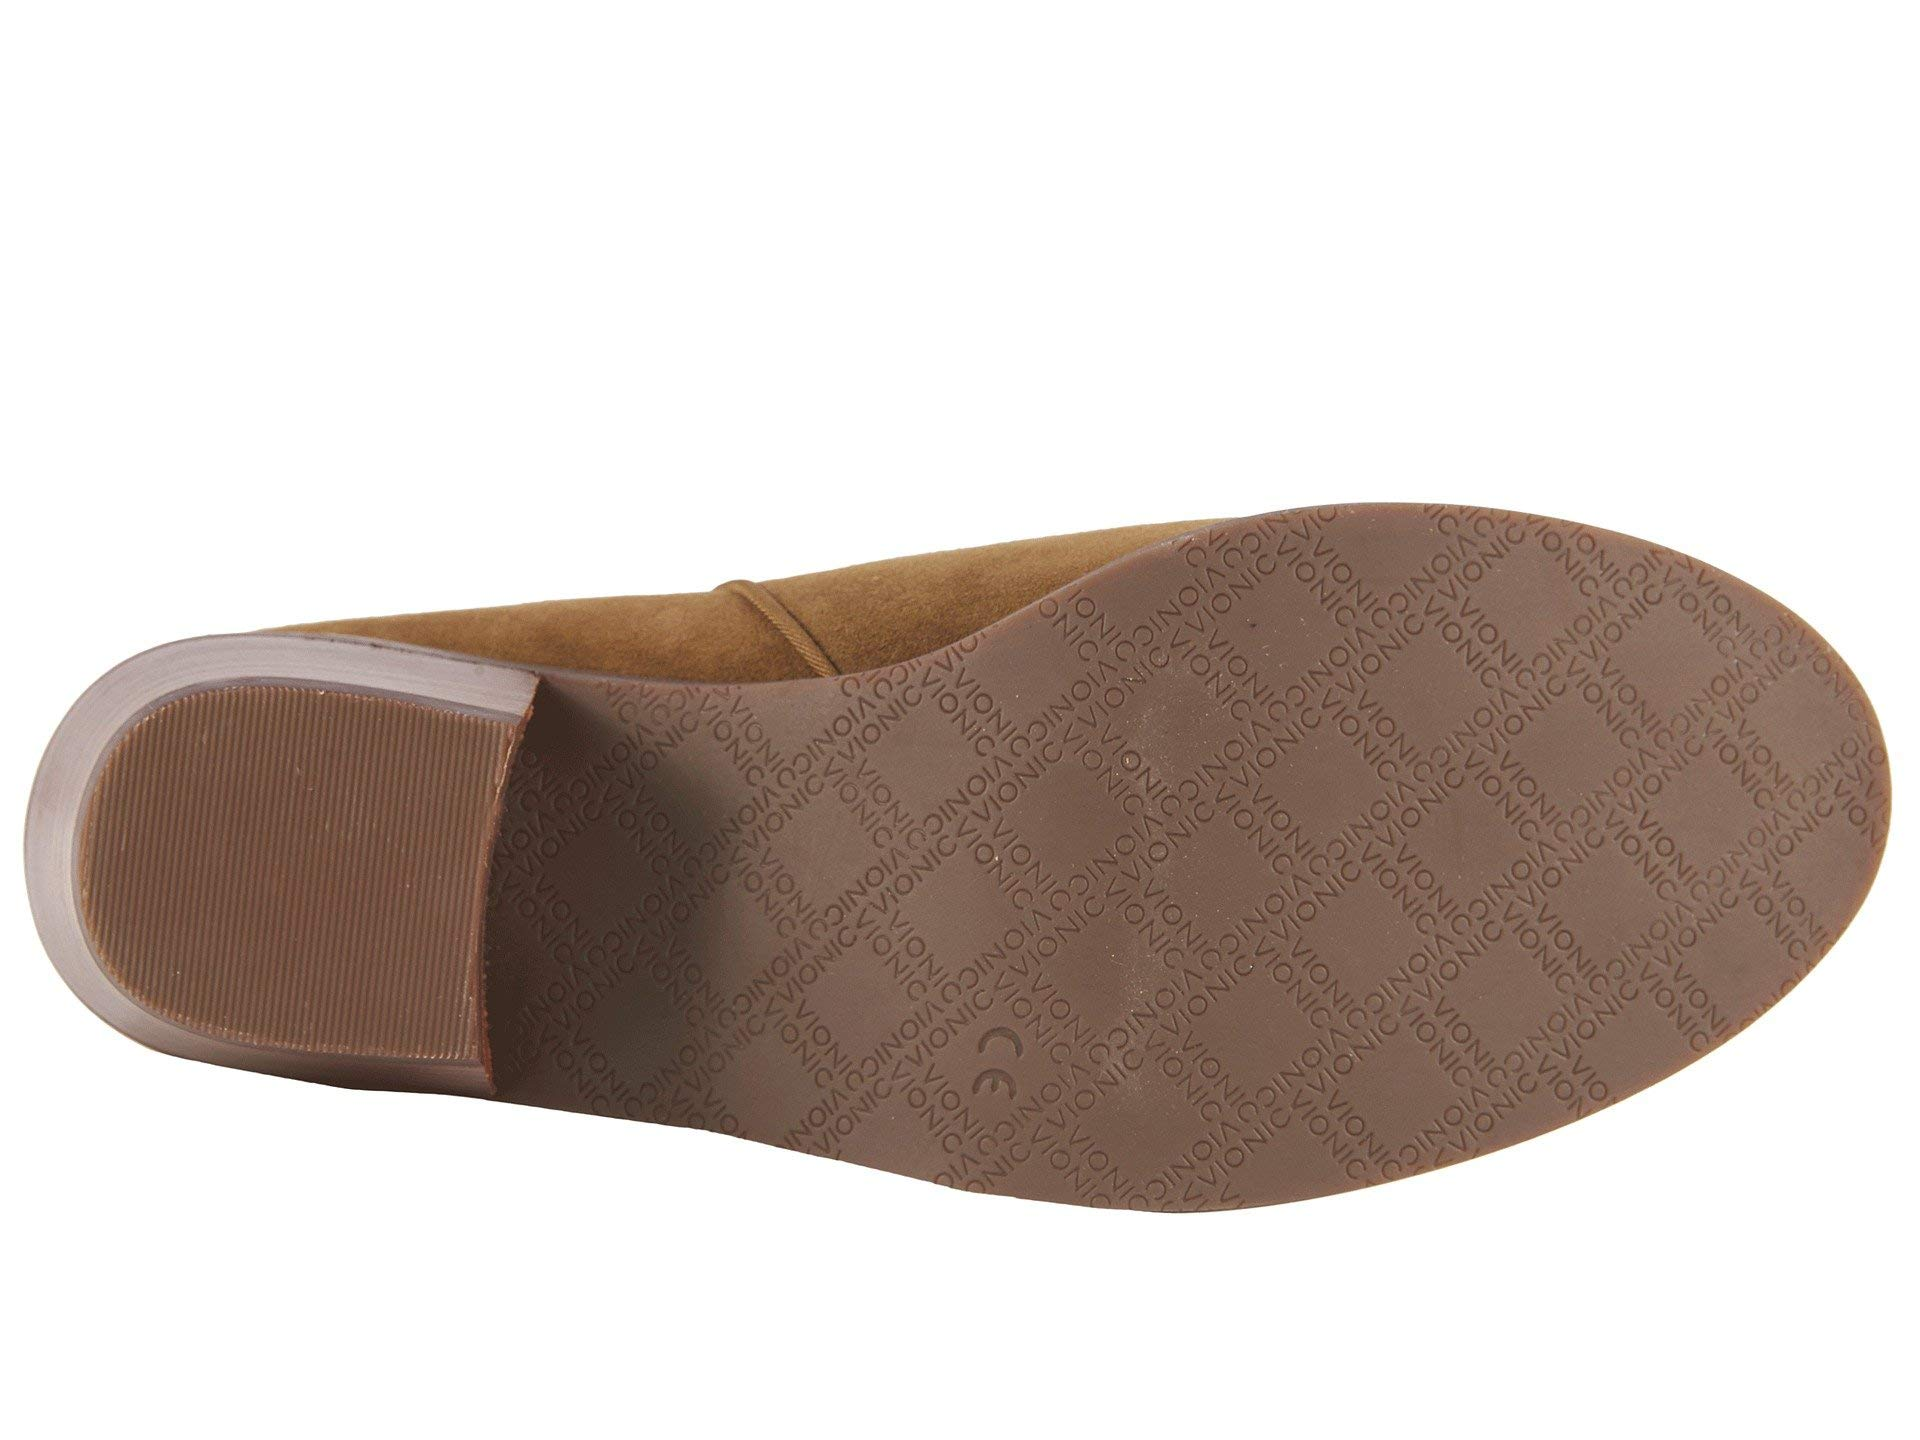circle: (1147, 591, 1636, 1103), (847, 706, 1135, 1004)
quad: (1147, 591, 1636, 1103), (847, 706, 1135, 1004)
text: (1147, 591, 1636, 1103), (847, 706, 1135, 1004), (1658, 687, 1746, 787)
